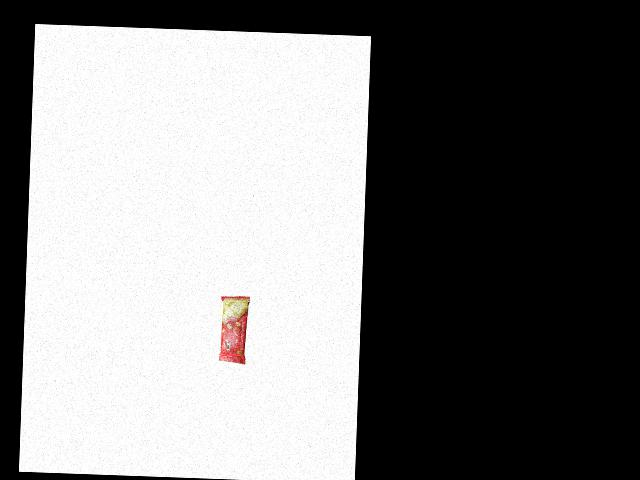chocolate: (216, 295, 254, 369)
